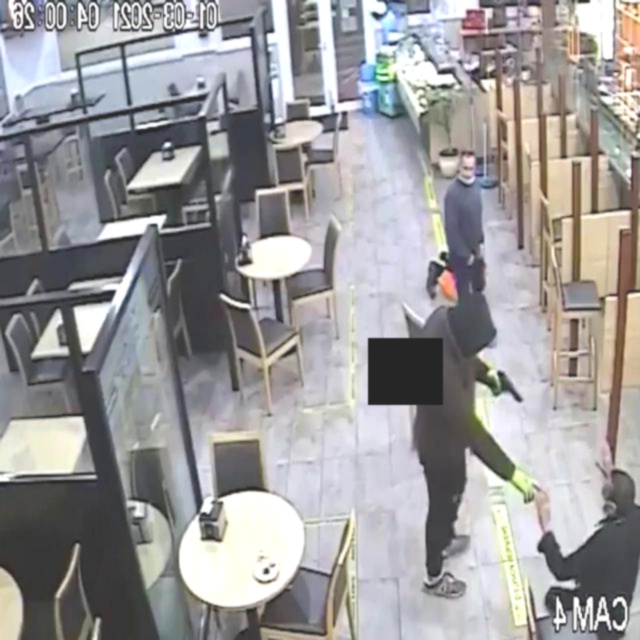gun: (480, 364, 531, 416)
